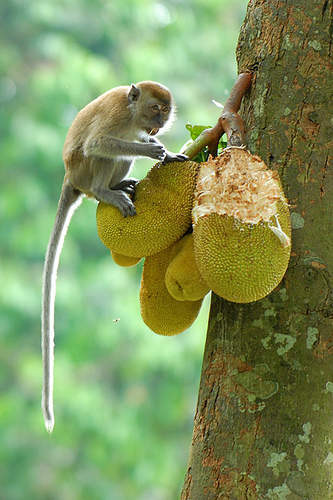jackfruit: (192, 147, 292, 303), (93, 155, 197, 261), (160, 235, 212, 306)
